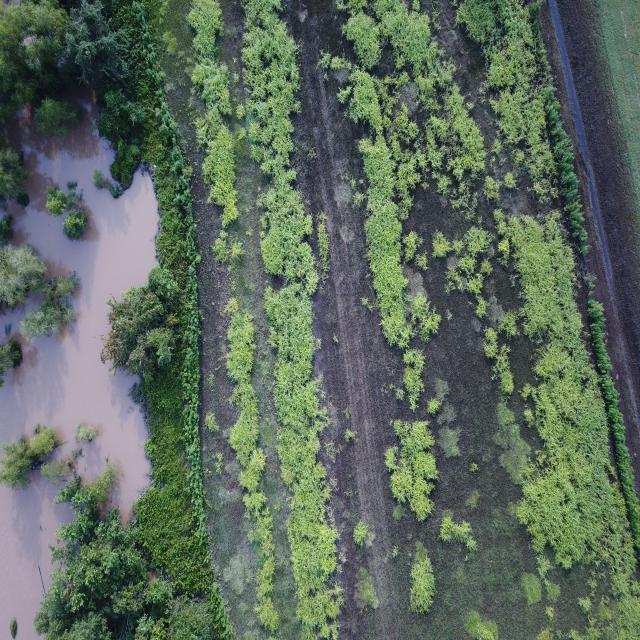fire: (0, 90, 158, 519), (0, 471, 71, 639)
